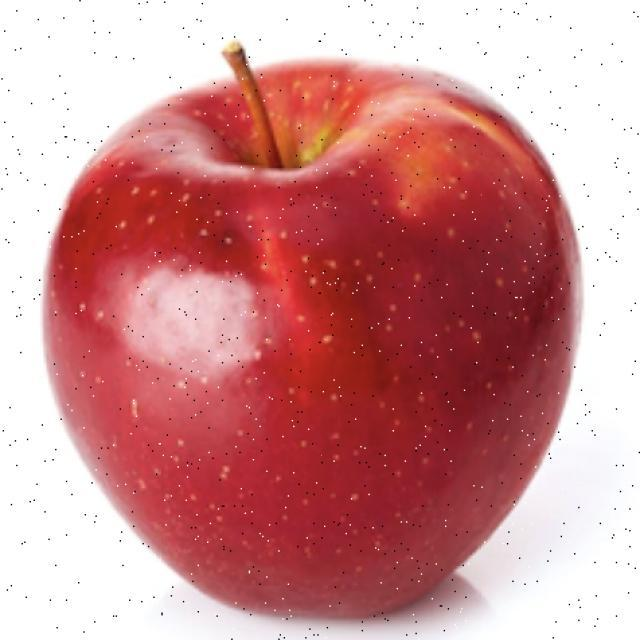Fresh Apple: (55, 59, 565, 604)
